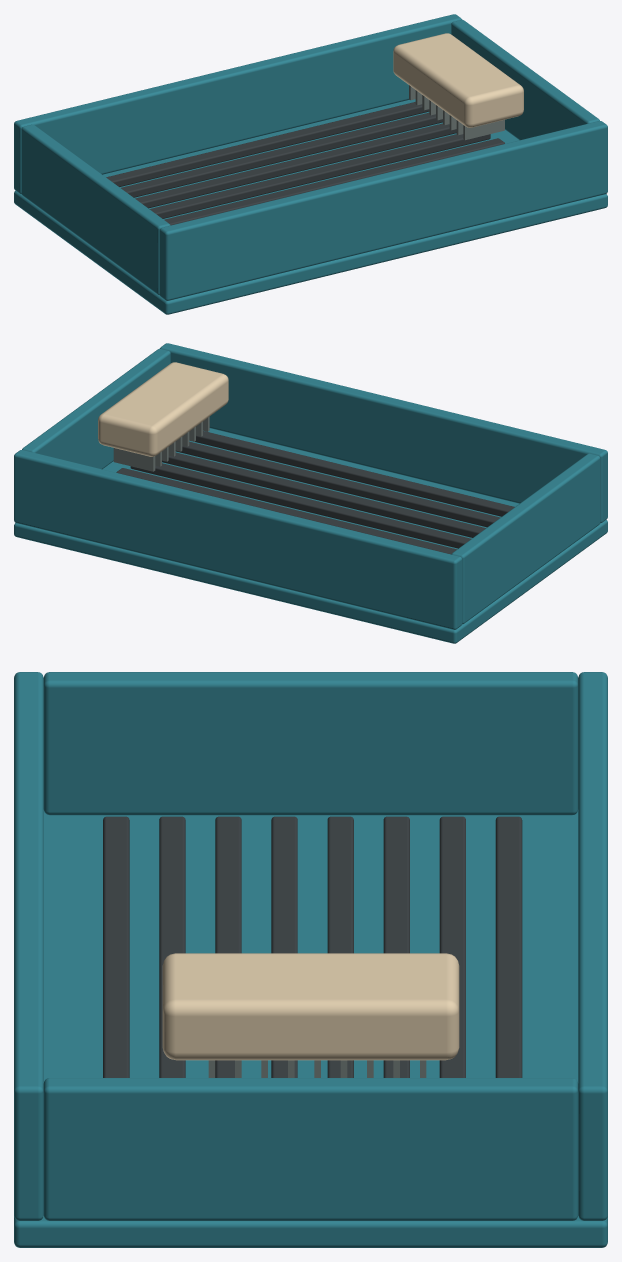
Rendered from bicycle-shop-and-repair-cafe-drivetrain-cleaning-tray-101301f4__32413.glb.
The picture shows the model from 3 angles, top to bottom: view 1: azimuth 30°, elevation 25°; view 2: azimuth 150°, elevation 25°; view 3: azimuth 270°, elevation 25°; orthographic projection. The views are drawn at different scales.
Parts seen in each view (by area): view 1: drivetrain-cleaning-tray; view 2: drivetrain-cleaning-tray; view 3: drivetrain-cleaning-tray.
Boxes of the visible parts, x1,y1,x2,y2 form: drivetrain-cleaning-tray: (14,14,607,314); drivetrain-cleaning-tray: (14,343,607,643); drivetrain-cleaning-tray: (14,672,607,1247).
Bounding box in the file's own units: 0.3 × 0.068 × 0.18.
